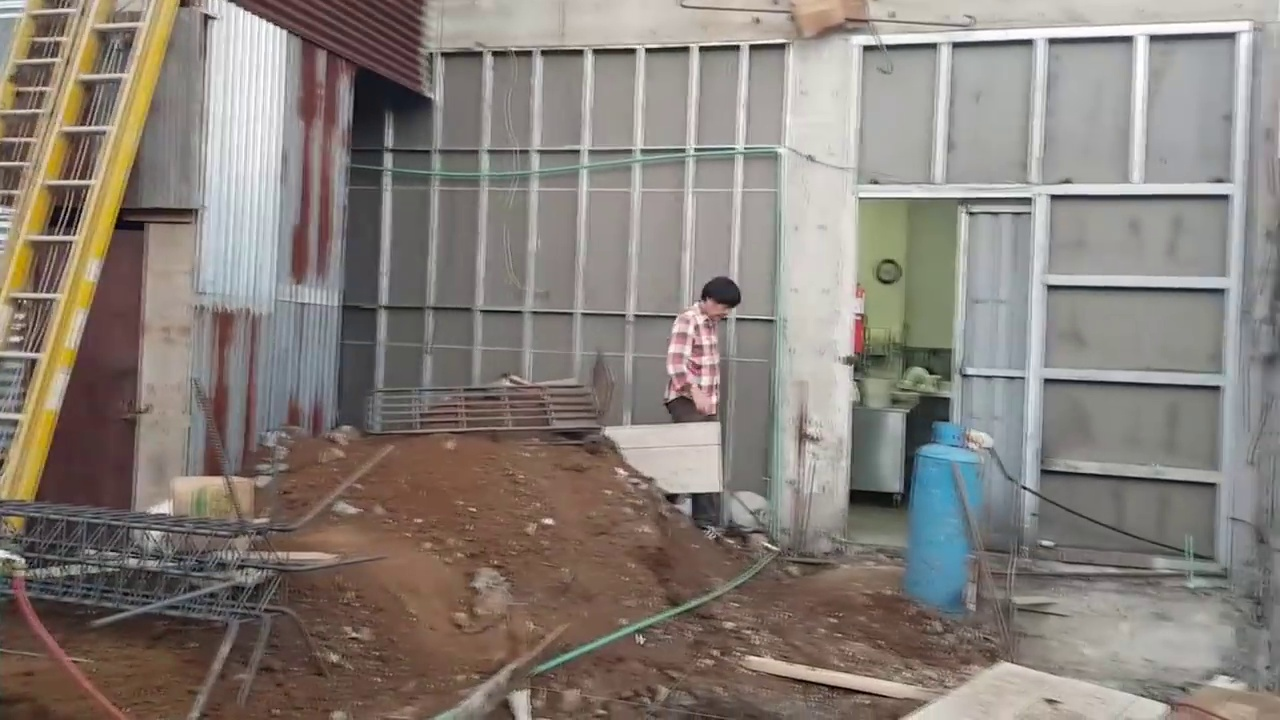helmet-off: (701, 281, 740, 325)
person: (663, 277, 748, 453)
